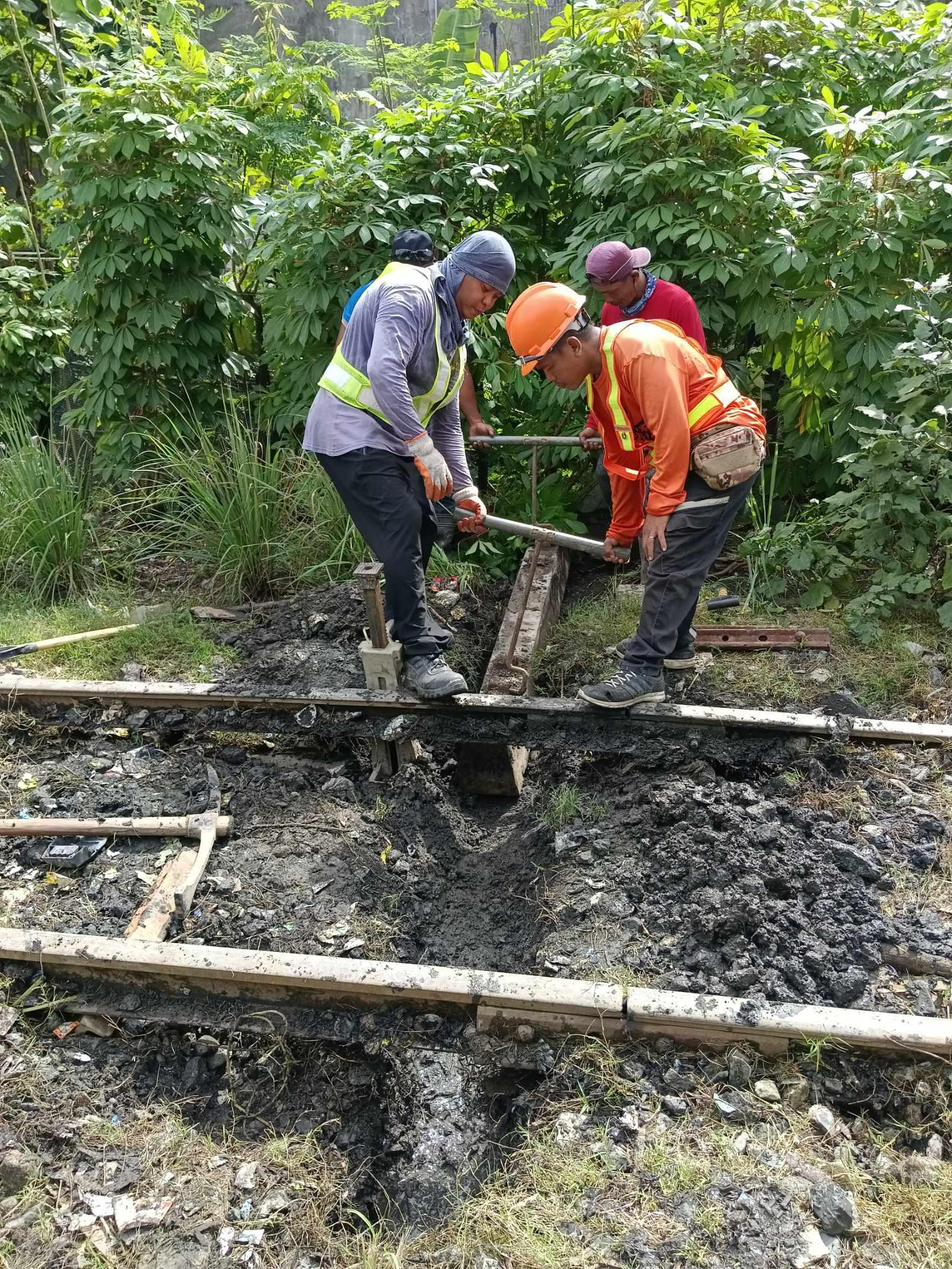railway-gap: (581, 953, 669, 1050)
